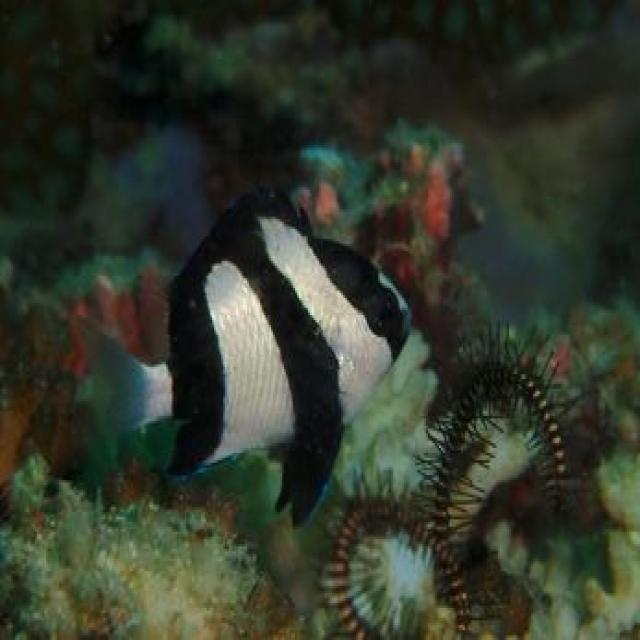ThreeStripedDamselfish: (85, 187, 411, 529)
